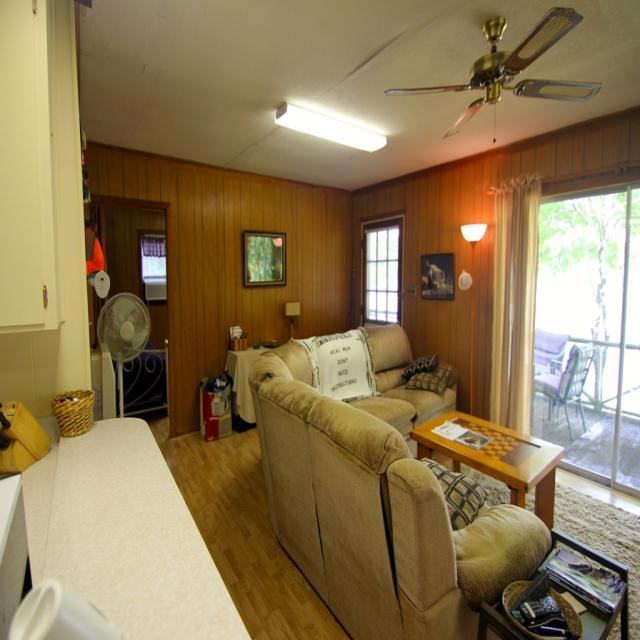fan_off: (384, 9, 604, 135)
